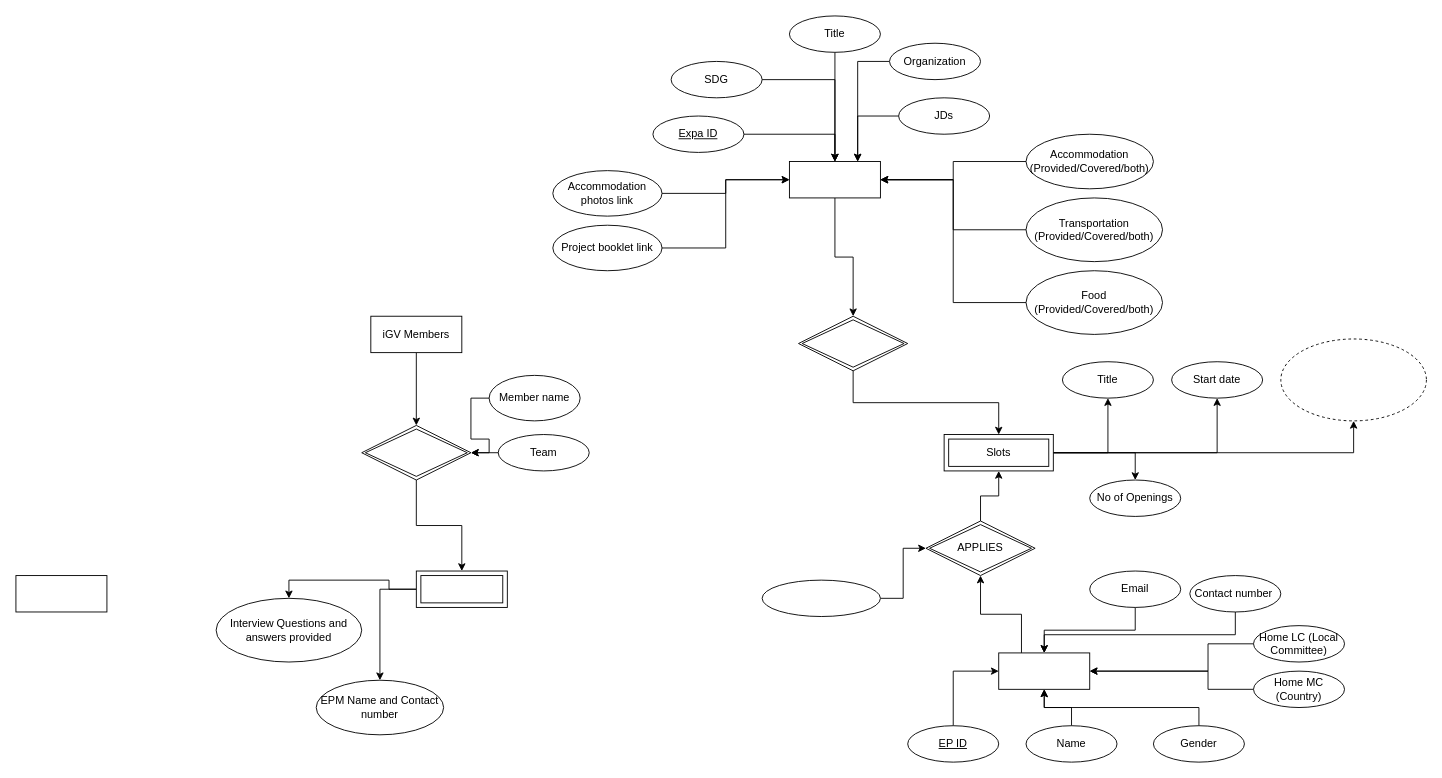
The diagram is 1442 pixels wide and 778 high, and some of its shapes have lost their labels. The centre of each missing label's shape, as x and y in pixels:
Applied date: the point at 820,598
Conducts: the point at 416,452
End date (6 weeks from start date): the point at 1353,379
Entity: the point at 61,593
Exchange Participant (EP): the point at 1044,670
Interviews: the point at 461,588
Projects: the point at 834,179
Relationship: the point at 853,343
